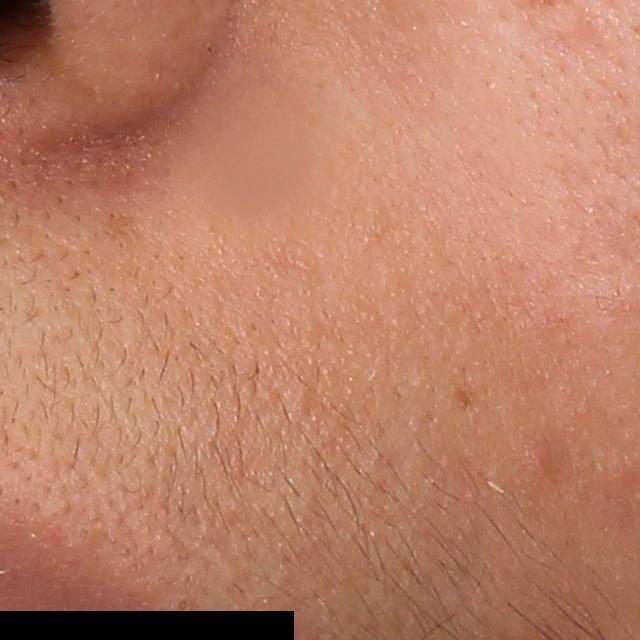nevus: (452, 384, 474, 411)
papule: (517, 431, 578, 487)
